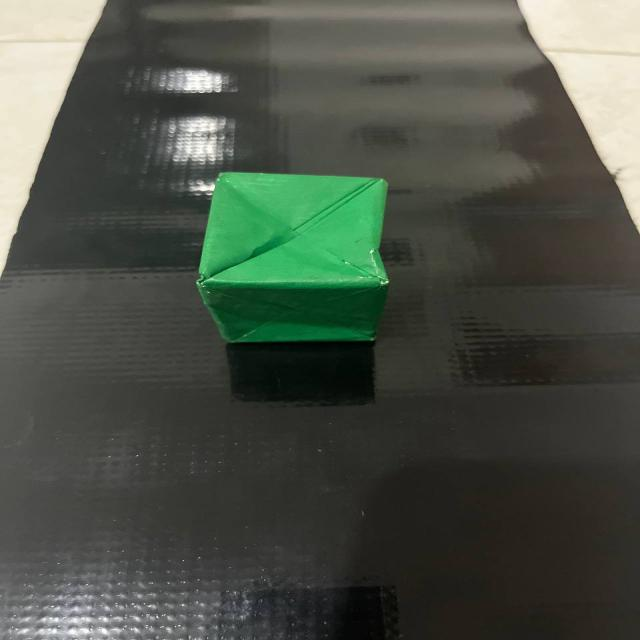Verde: (182, 152, 406, 357)
